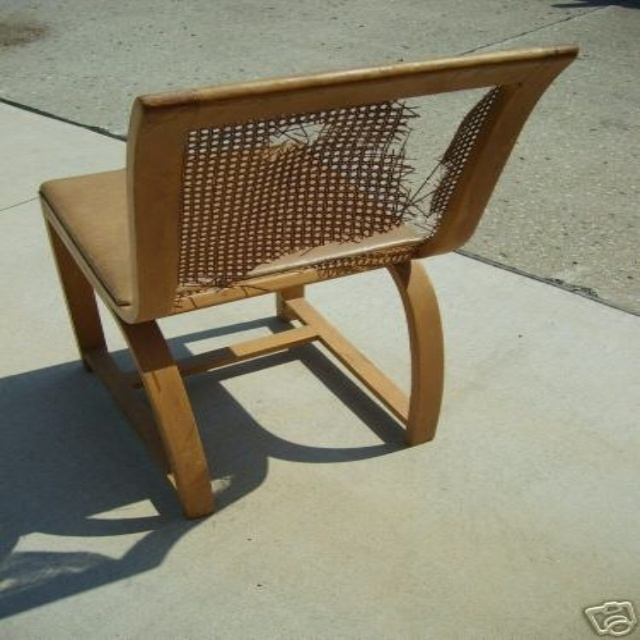obstacle: (39, 46, 577, 516)
